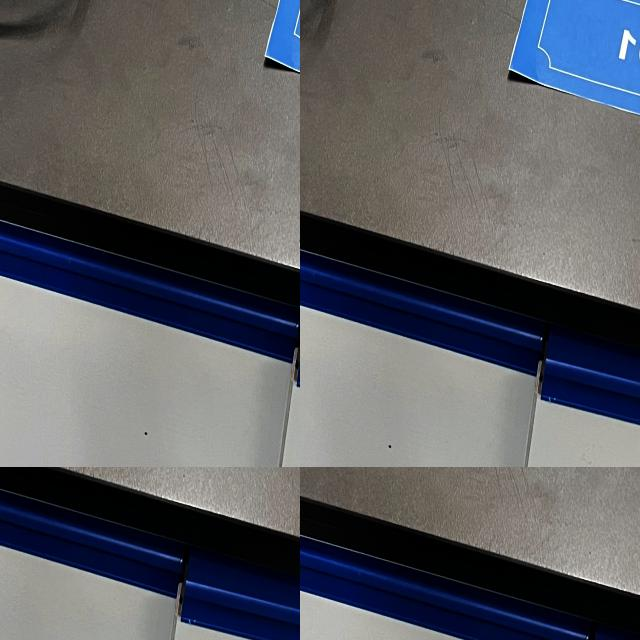Card: (526, 32, 640, 467), (203, 43, 300, 189)
